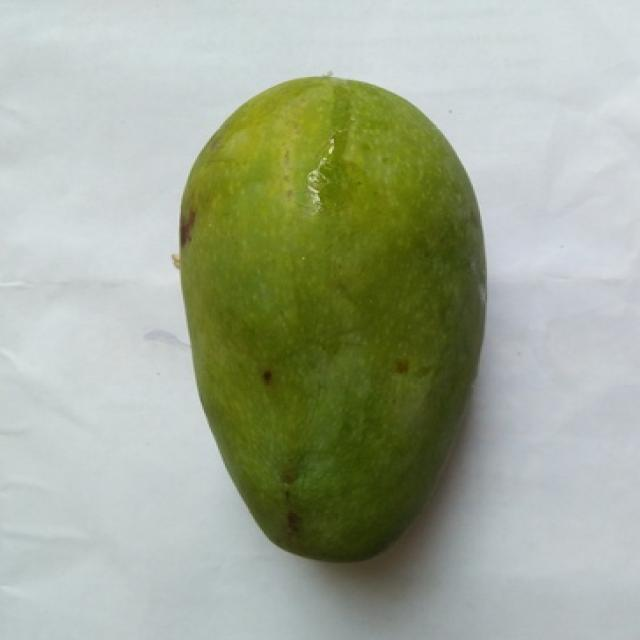Mango: (174, 76, 485, 560)
